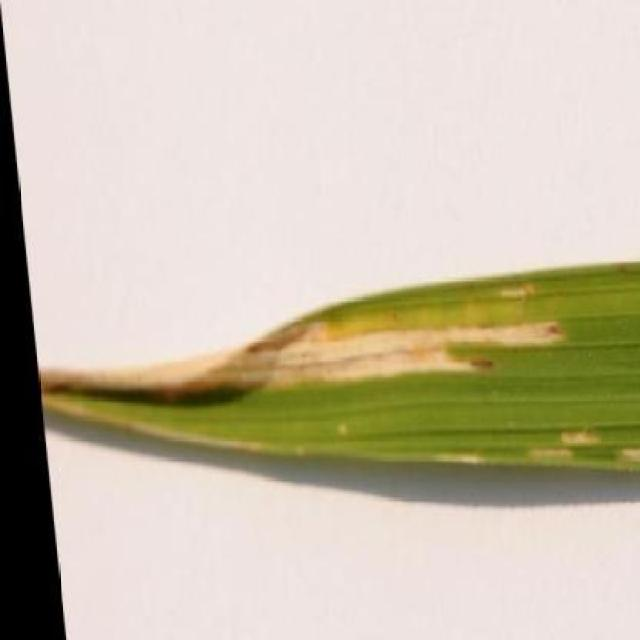Brown_Spot: (101, 261, 570, 413)
